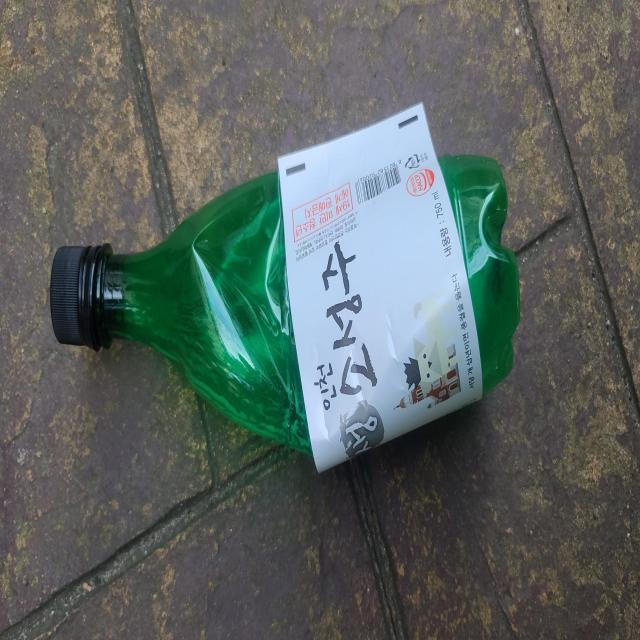plastic: (50, 102, 520, 471)
